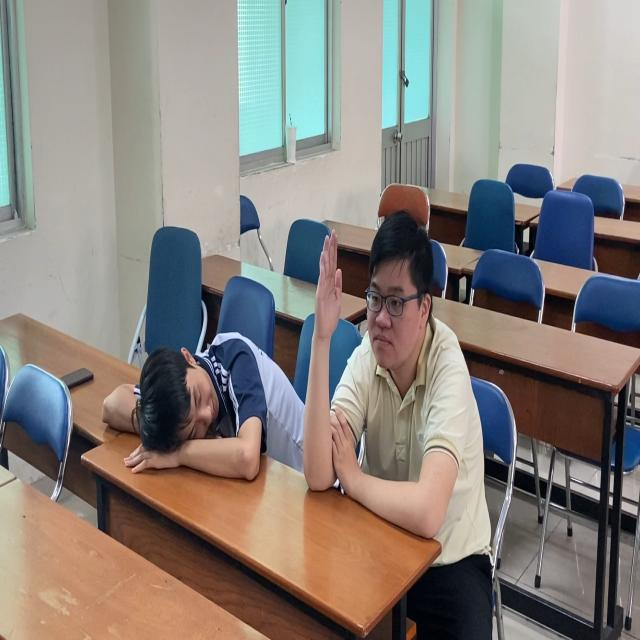raise_hand: (305, 216, 466, 545)
sleep: (89, 314, 309, 482)
